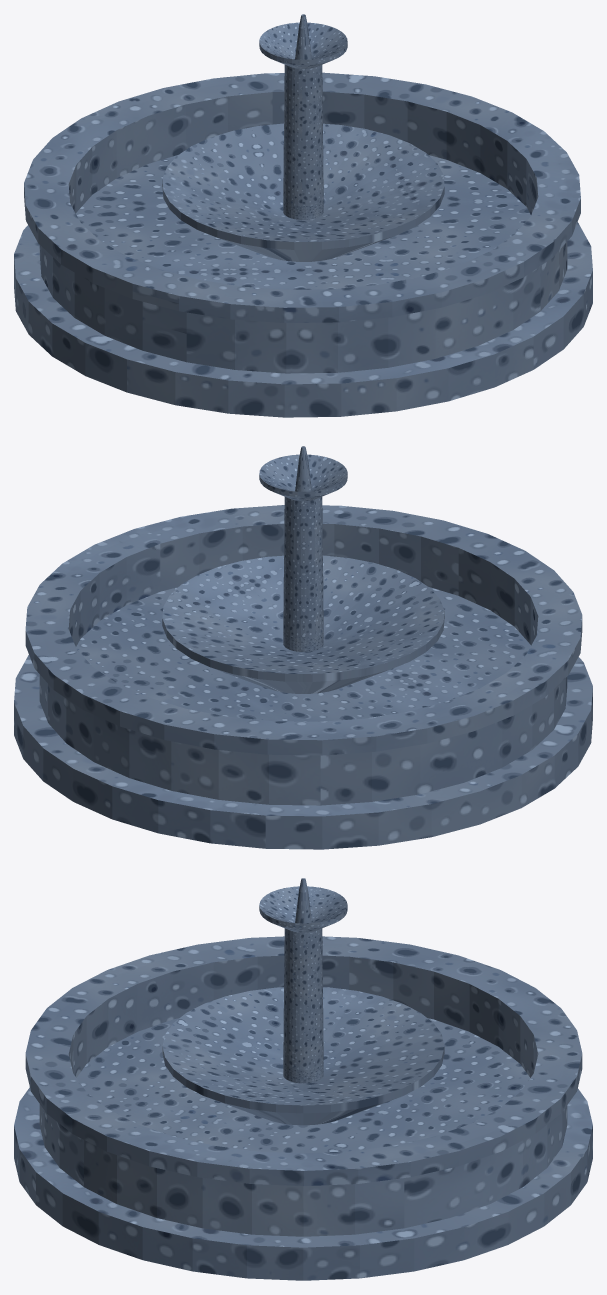
Rendered from FuenteNueva.fbx.
3 views of the same model, one above another, from view 1: azimuth 30°, elevation 25°; view 2: azimuth 150°, elevation 25°; view 3: azimuth 270°, elevation 25° (orthographic).
Parts seen in each view (by area): view 1: Cilindro; view 2: Cilindro; view 3: Cilindro.
Boxes of the visible parts, x1=… form: Cilindro: x1=14, y1=14, x2=592, y2=417; Cilindro: x1=14, y1=446, x2=592, y2=849; Cilindro: x1=14, y1=878, x2=592, y2=1280.
Size of the model in its own units: 1014 by 540 by 1014.
Materials: 1 (1 with a texture image).
